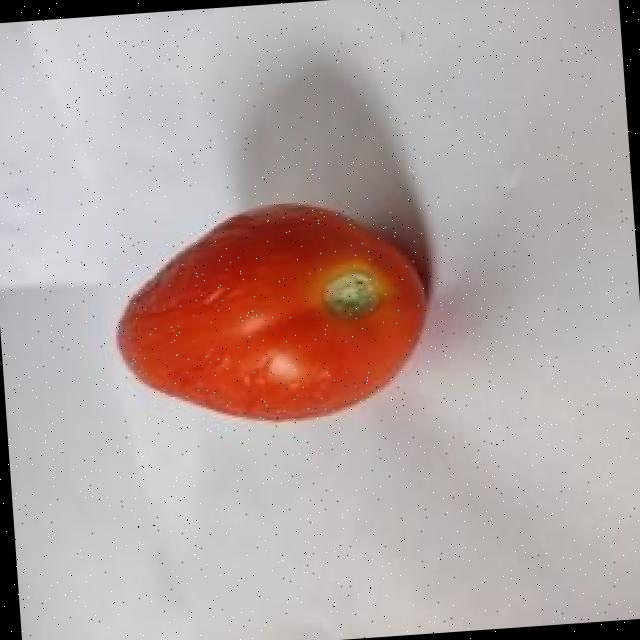overripe: (105, 186, 438, 436)
